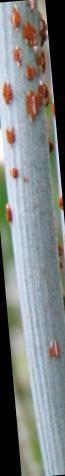Wheat: (0, 5, 49, 231)
